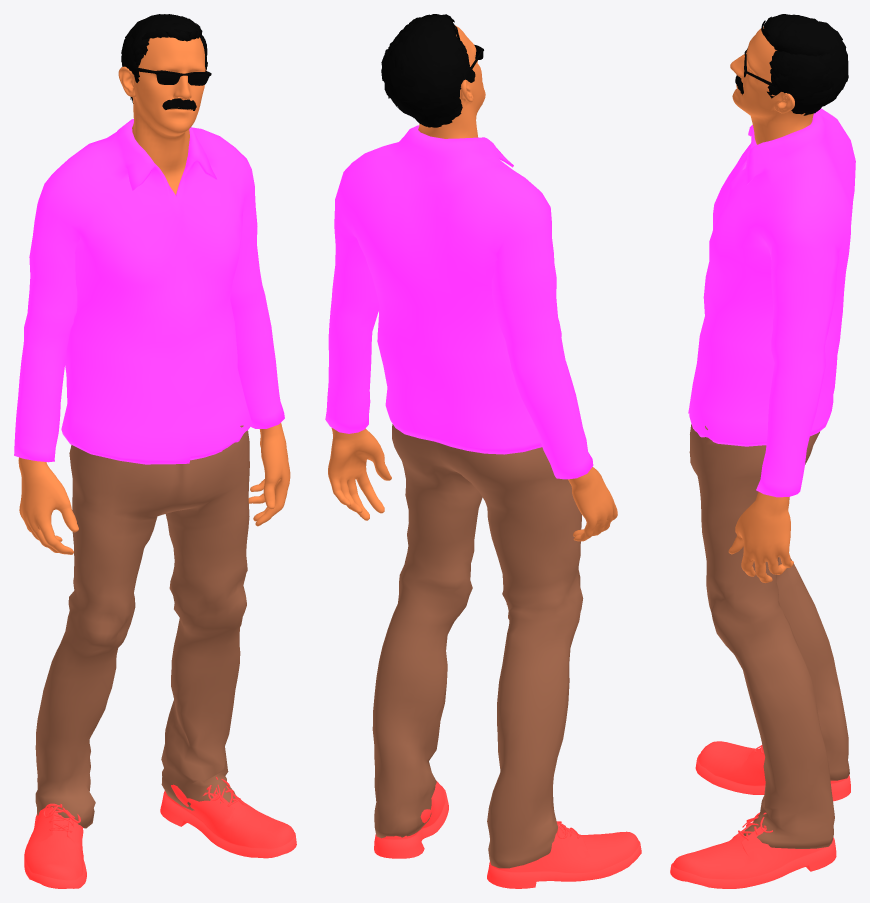
The model's file is test_people.glb.
3 views of the same model, side by side, from view 1: azimuth 30°, elevation 25°; view 2: azimuth 150°, elevation 25°; view 3: azimuth 270°, elevation 25° (orthographic). The views are drawn at different scales.
Parts seen in each view (by area): view 1: Tops.001, Bottoms.001, Body.001, Shoes.001, Hair.001, Eyewear.001; view 2: Tops.001, Bottoms.001, Body.001, Hair.001, Shoes.001; view 3: Tops.001, Bottoms.001, Shoes.001, Body.001, Hair.001.
Boxes of the visible parts, box(x1,y1,x2,y2) form: Tops.001: box(14, 119, 284, 464); Bottoms.001: box(35, 425, 249, 828); Body.001: box(18, 37, 290, 554); Shoes.001: box(24, 777, 296, 888); Hair.001: box(121, 14, 207, 103); Eyewear.001: box(136, 67, 211, 85); Tops.001: box(325, 125, 593, 479); Bottoms.001: box(372, 424, 583, 868); Body.001: box(328, 25, 617, 541); Hair.001: box(381, 14, 475, 127); Shoes.001: box(374, 780, 641, 888); Tops.001: box(688, 108, 855, 497); Bottoms.001: box(689, 424, 849, 848); Shoes.001: box(670, 741, 850, 888); Body.001: box(728, 26, 813, 582); Hair.001: box(761, 14, 848, 115).
Size of the model in its own units: 0.6552 by 1.86 by 0.3753.
